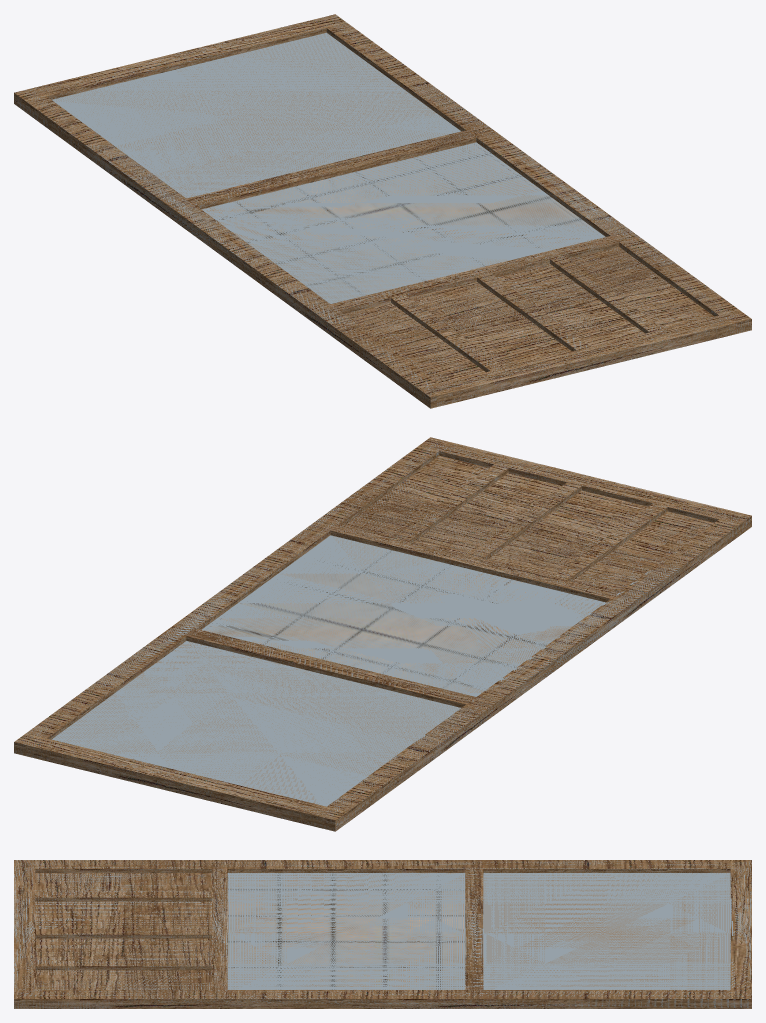
Rendered from Shoji-wall001.fbx.
3 views of the same model, one above another, from view 1: azimuth 30°, elevation 25°; view 2: azimuth 150°, elevation 25°; view 3: azimuth 270°, elevation 25° (orthographic). The views are drawn at different scales.
Parts seen in each view (by area): view 1: Model; view 2: Model; view 3: Model.
Boxes of the visible parts, x1,y1,x2,y2 form: Model: (14, 14, 751, 408); Model: (14, 437, 751, 831); Model: (14, 860, 751, 1008).
Bounding box in the file's own units: 98.03 × 3.26 × 220.
